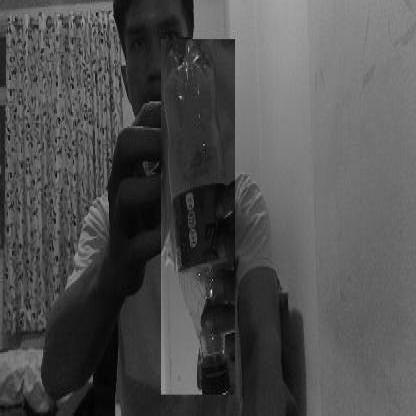plastic_bottles: (161, 39, 235, 397)
